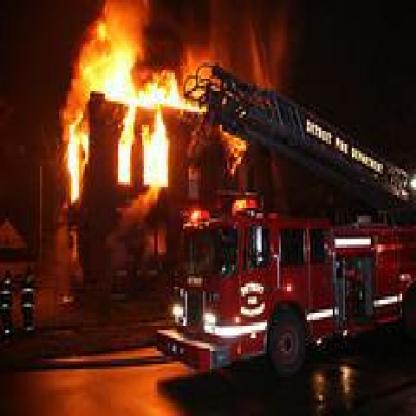fire: (52, 0, 252, 205)
